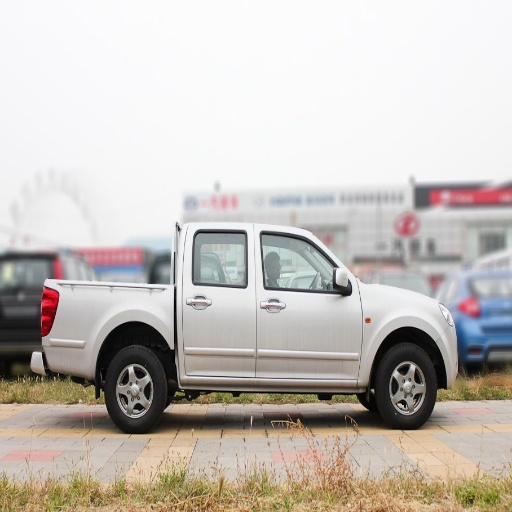back_right_door: (184, 228, 256, 375)
trunk: (46, 280, 174, 377)
